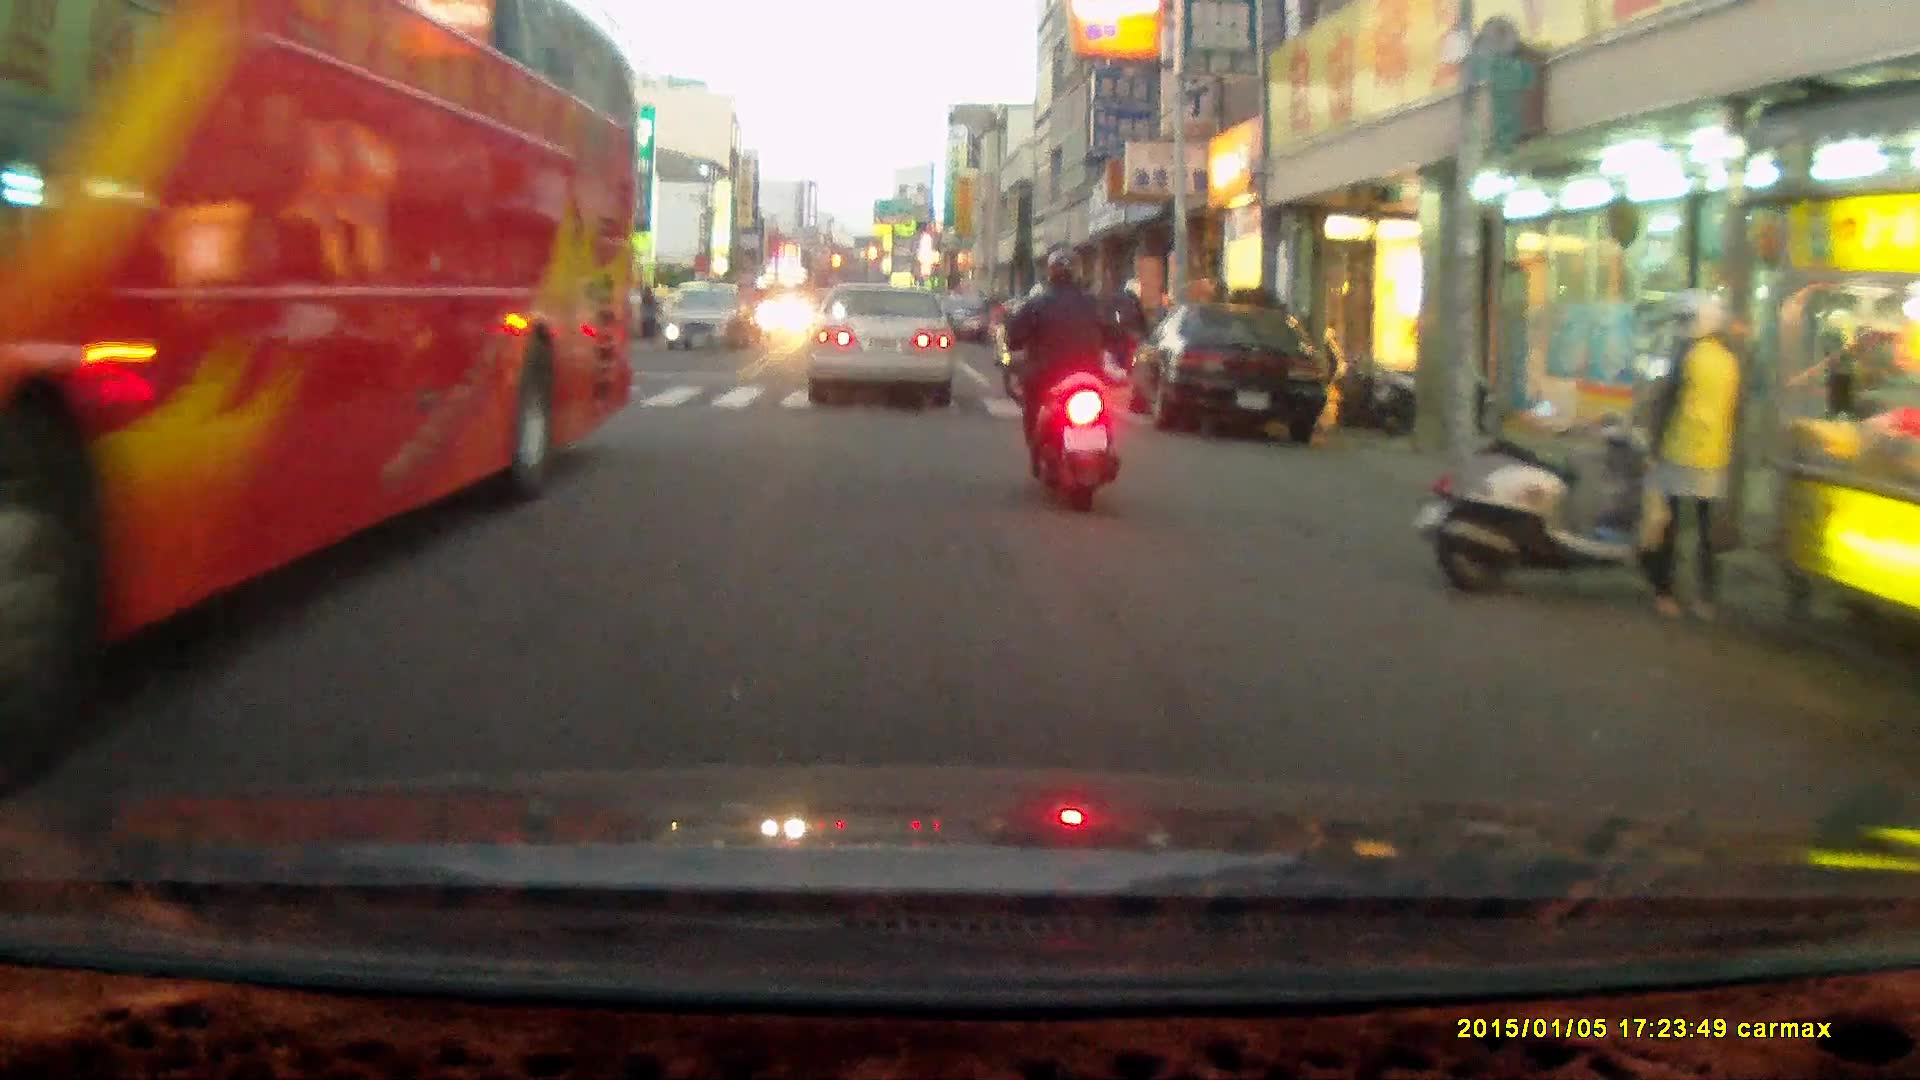pedestrian: (1636, 284, 1744, 624), (1115, 276, 1152, 394), (639, 280, 659, 343)
rider: (995, 244, 1120, 511)
vehicle: (1, 16, 644, 721), (1125, 302, 1341, 438), (809, 281, 958, 405), (660, 282, 755, 353)
